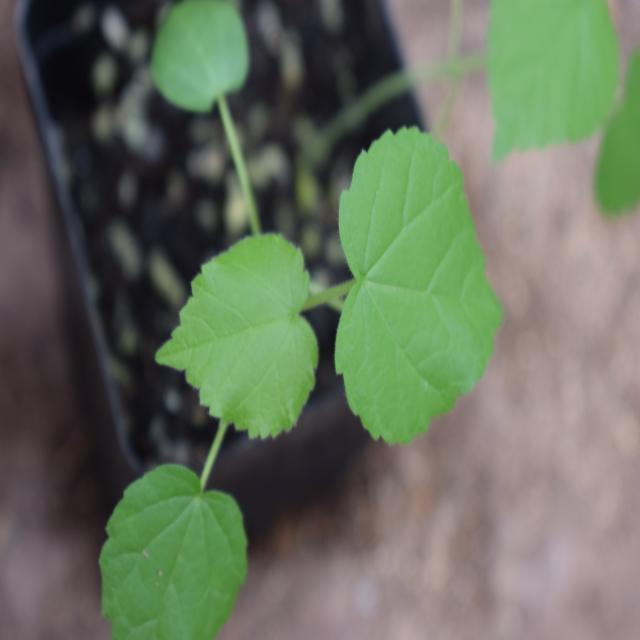abutilon theophrasti: (101, 99, 486, 624)
